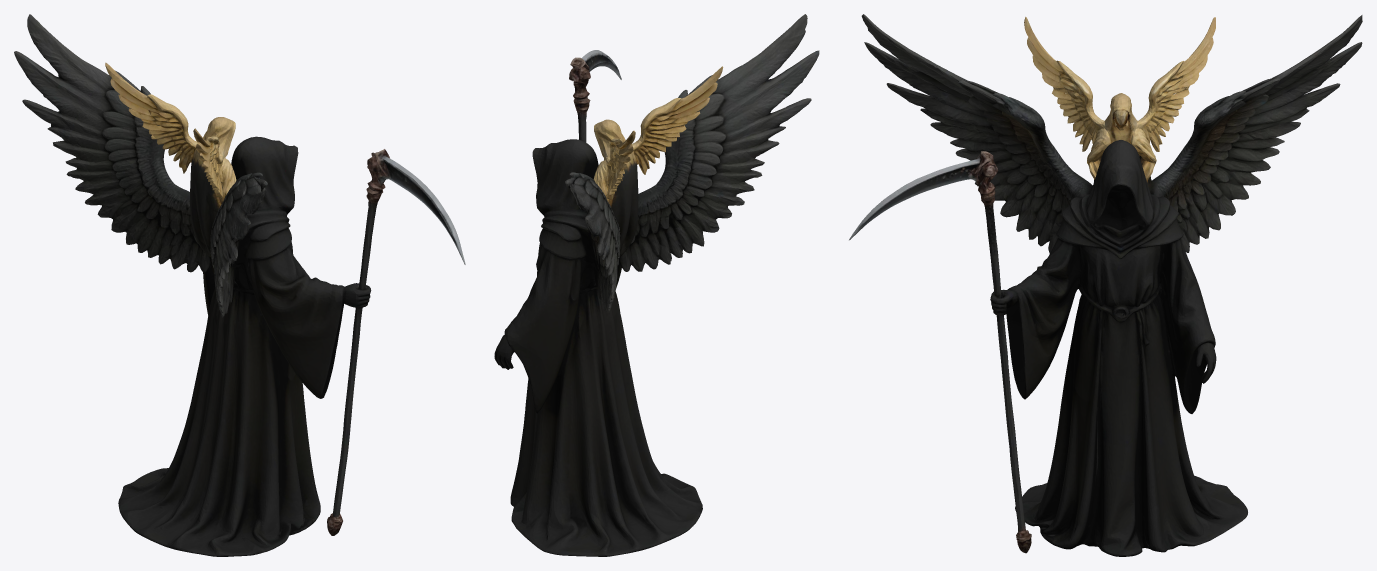
File: grim_reaper_with_golden_angel_dark_wings.glb
The picture shows the model from 3 angles, left to right: view 1: azimuth 30°, elevation 25°; view 2: azimuth 150°, elevation 25°; view 3: azimuth 270°, elevation 25°; orthographic projection. The views are drawn at different scales.
Parts seen in each view (by area): view 1: tripo_node_767f33d9; view 2: tripo_node_767f33d9; view 3: tripo_node_767f33d9.
Part boxes in pixels (box(x1,y1,x2,y2)): tripo_node_767f33d9: box(14, 14, 465, 556); tripo_node_767f33d9: box(494, 14, 819, 556); tripo_node_767f33d9: box(849, 14, 1362, 556).
Bounding box in the file's own units: 0.5056 × 0.9979 × 0.9978.
1 material, 1 textured.
